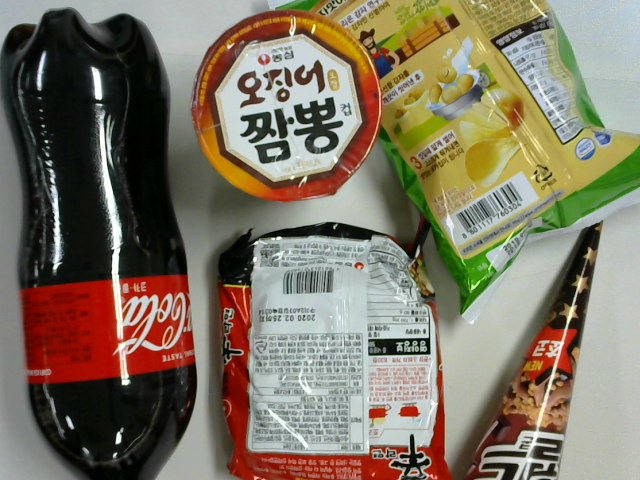Coca_Cola_1.5L: (1, 12, 195, 479)
Ojjam: (191, 16, 380, 203)
Pocachip_Onion: (267, 1, 639, 316)
Sinramen: (215, 227, 443, 480)
World_Cone_Choco: (466, 212, 605, 480)
